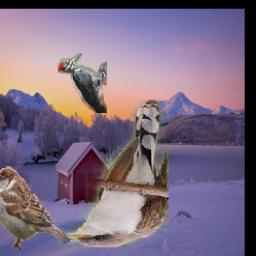Cuckoo: (58, 100, 169, 248)
Sparrow: (0, 167, 70, 251)
Woodpecker: (58, 53, 107, 113)
